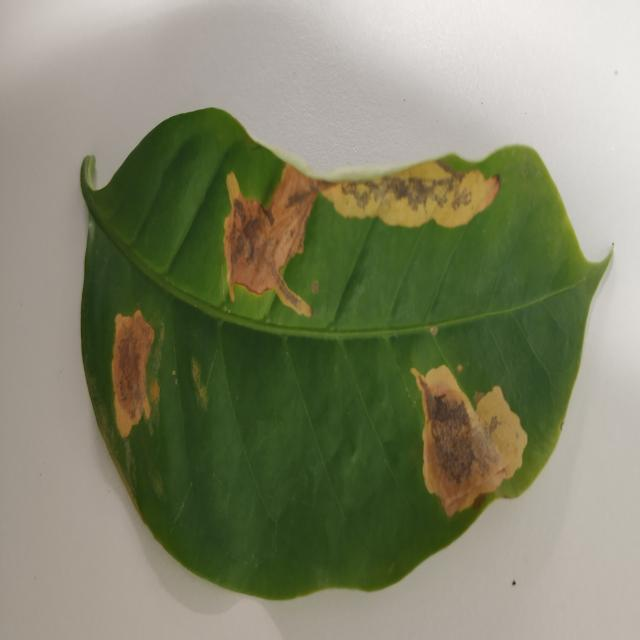Plaga-Minador: (78, 108, 611, 604)
